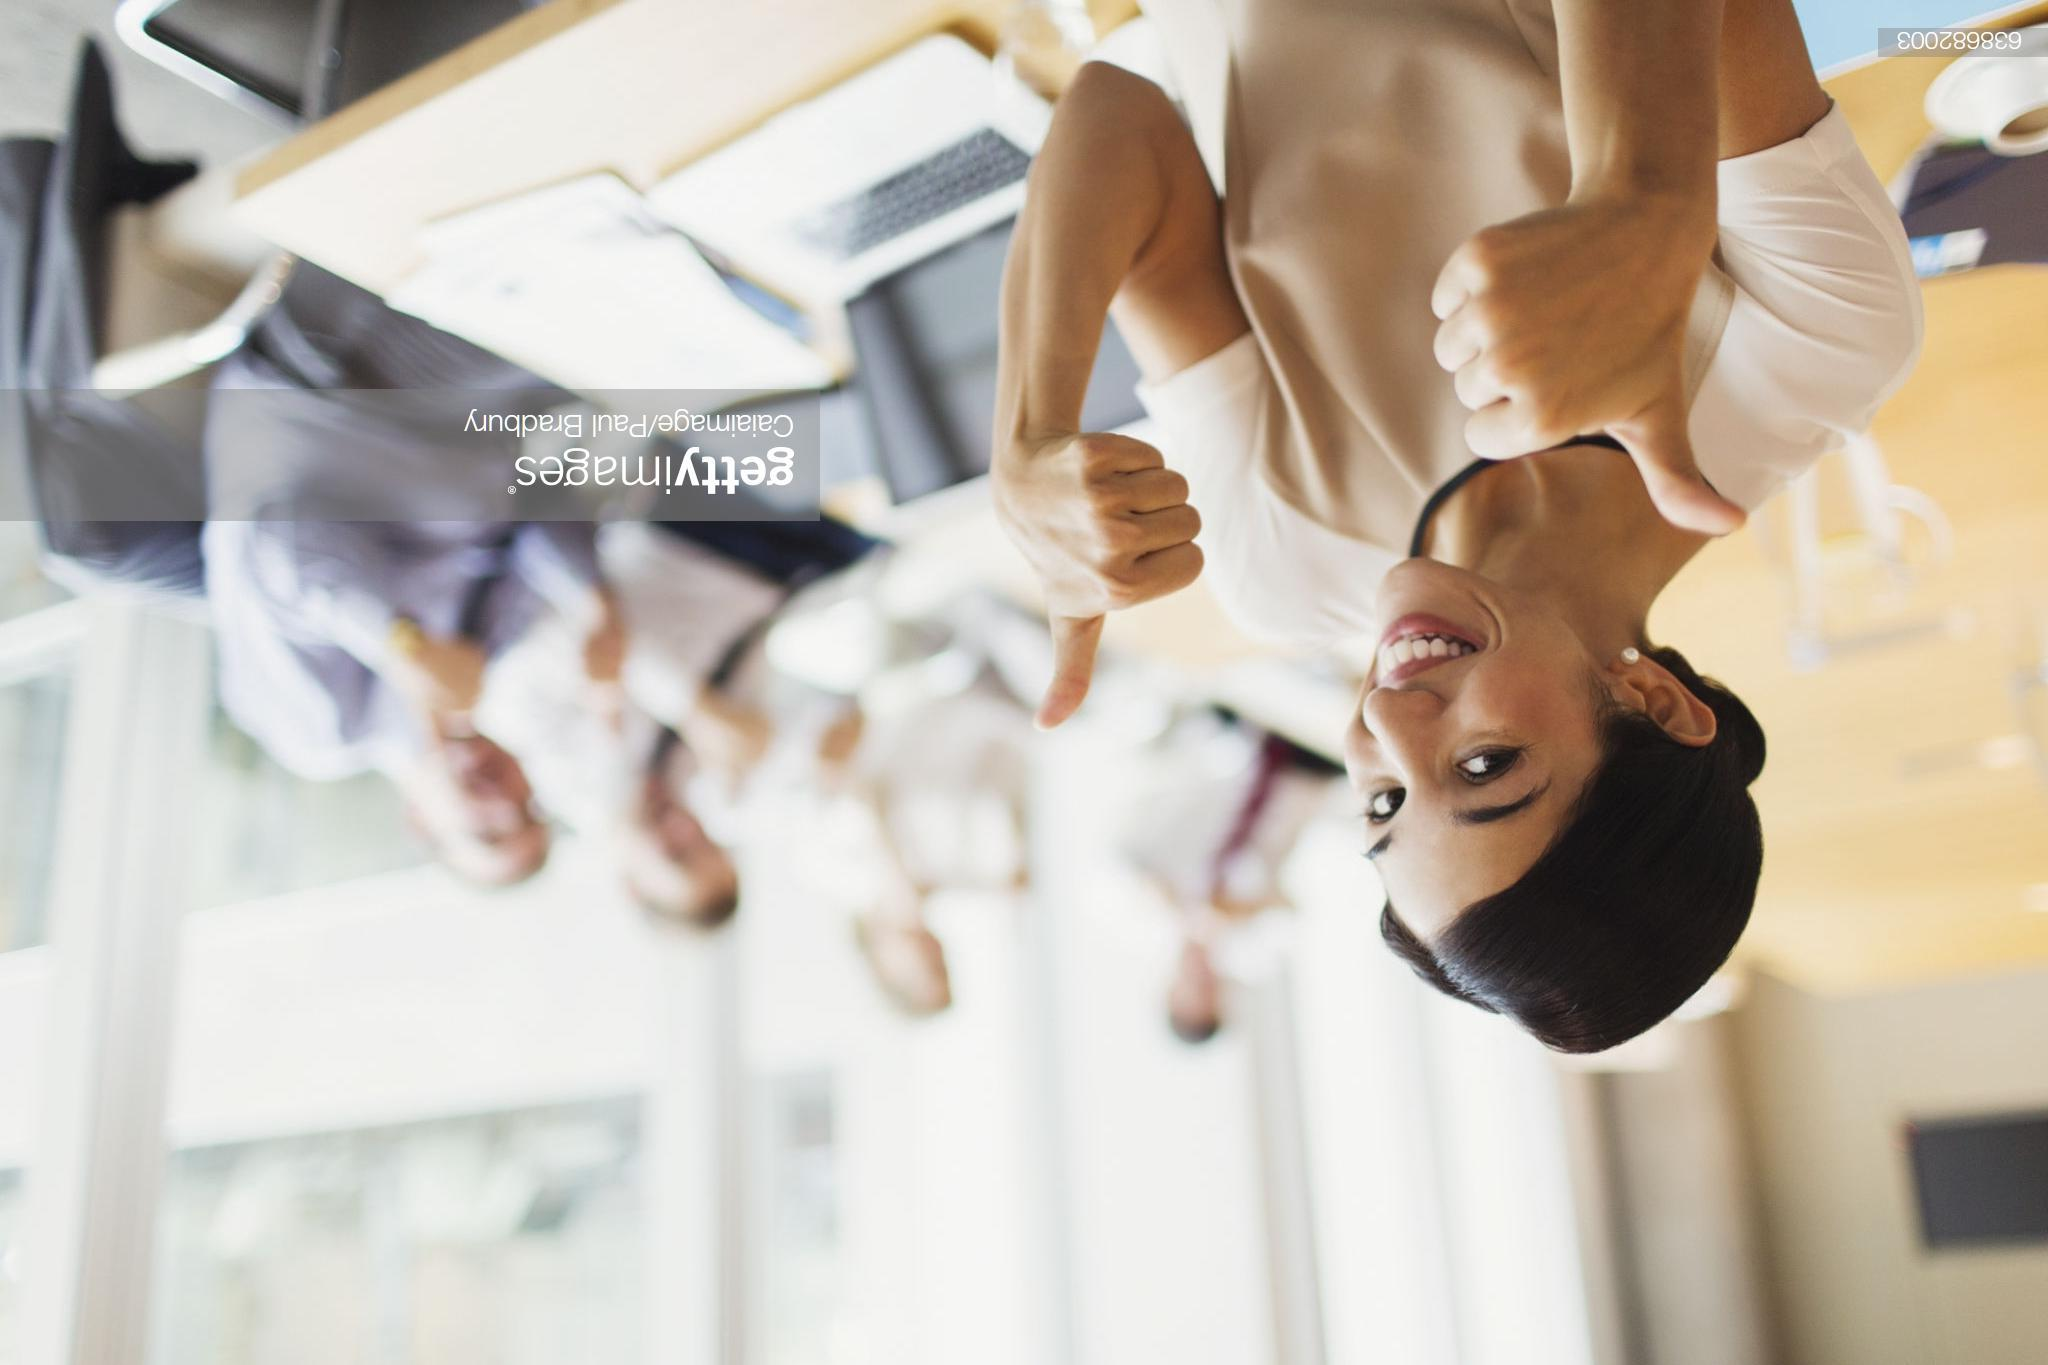thumbsdown: (1430, 229, 1748, 536), (1032, 430, 1207, 731)
